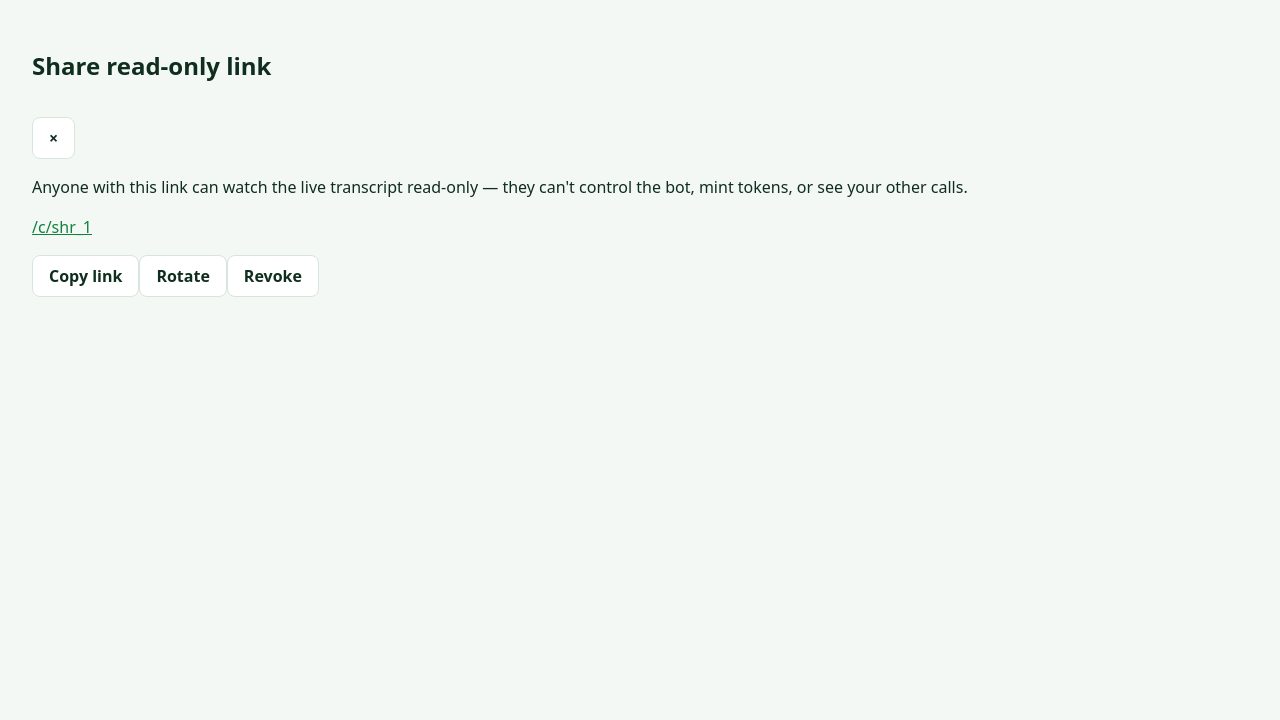
Test: ShareModal — owner share-link control (SPEC §4.1, §5.7, Story 2) › rotates the link: a new token replaces the old, with a 'previous link stopped working' note
Expected: the link "/c/shr_1" is shown, x1=32 y1=216 x2=92 y2=238
Click the button "Rotate".
click(183, 276)  # box x1=139 y1=255 x2=227 y2=297
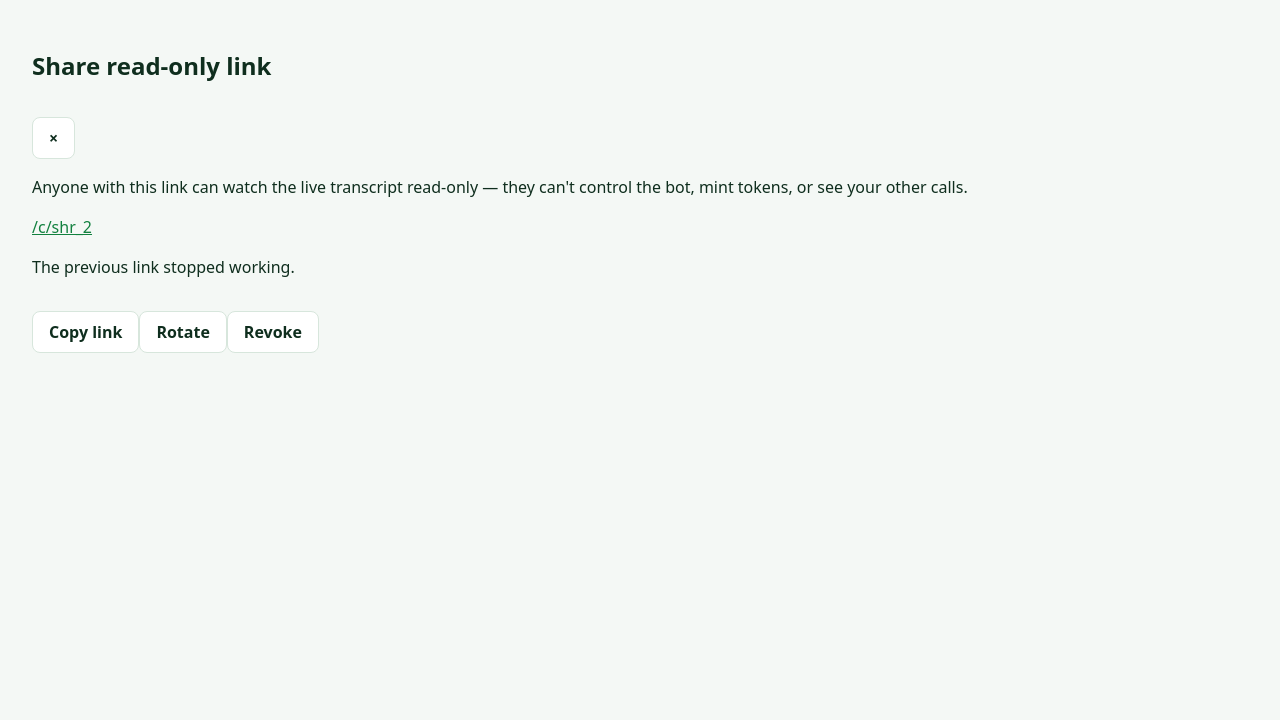
Now the link "/c/shr_2" is shown, box x1=32 y1=216 x2=92 y2=238
Now the text "The previous link stopped working." is shown, box x1=32 y1=256 x2=295 y2=278
